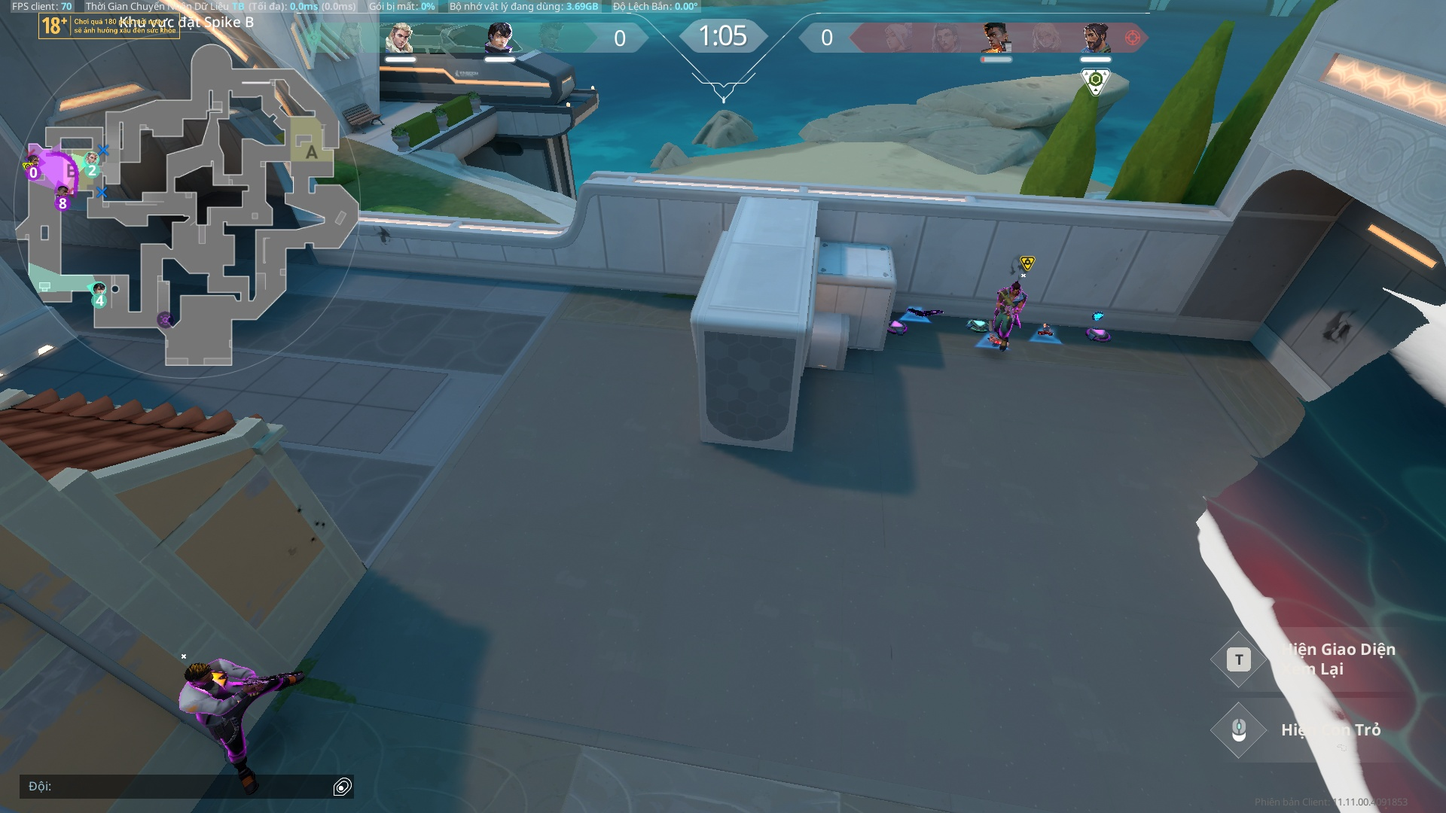body: (178, 679, 239, 714), (997, 287, 1026, 313)
head: (185, 662, 213, 685), (1009, 280, 1020, 294)
